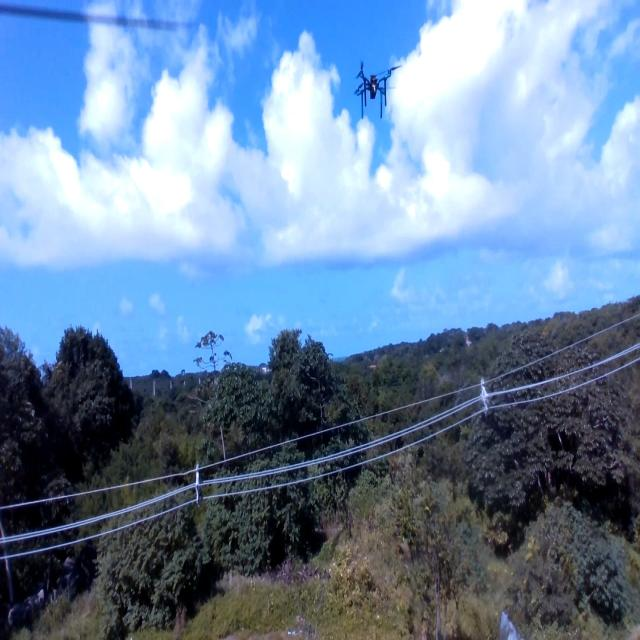-uav-: (341, 52, 403, 124)
